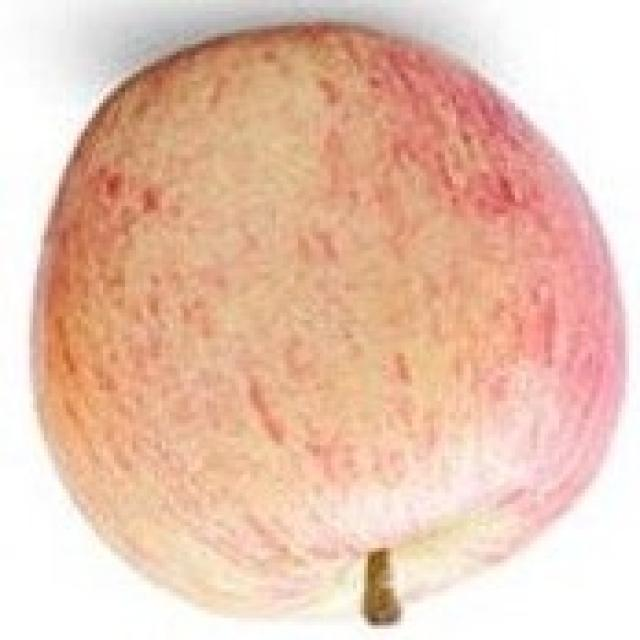75-_ripeness: (36, 30, 619, 618)
